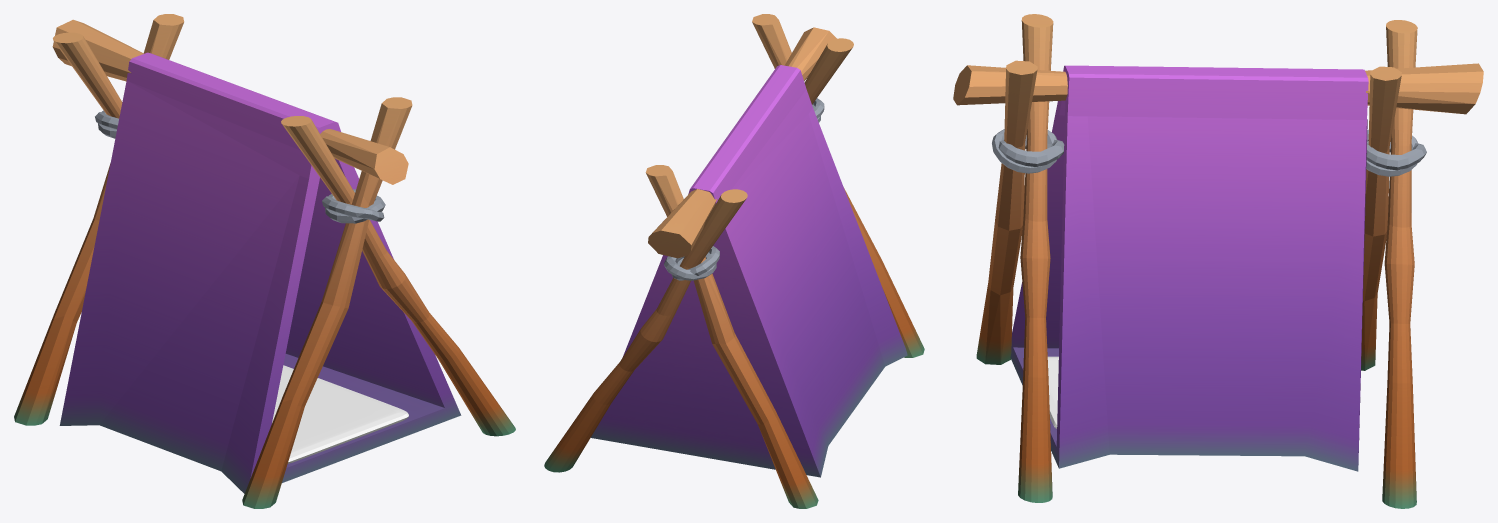
Rendered from tent.glb.
3 views of the same model, side by side, from view 1: azimuth 30°, elevation 25°; view 2: azimuth 150°, elevation 25°; view 3: azimuth 270°, elevation 25° (orthographic). The views are drawn at different scales.
Visible parts, largest first — view 1: Torus.002; view 2: Torus.002; view 3: Torus.002.
Part boxes in pixels (bbox=[...]): Torus.002: bbox=[14, 14, 515, 508]; Torus.002: bbox=[544, 14, 924, 508]; Torus.002: bbox=[953, 14, 1483, 508].
Size of the model in its own units: 1.6 by 1.75 by 2.06.
Materials: 1 (1 with a texture image).
